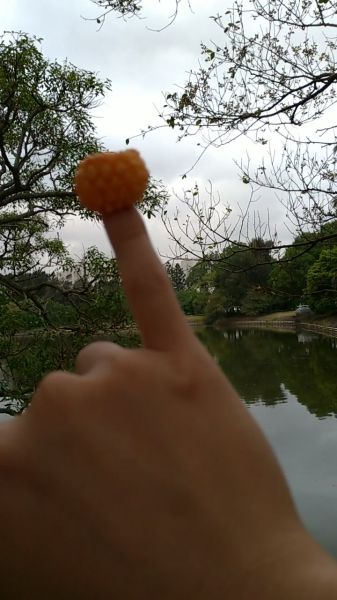eggs: (75, 148, 149, 214)
